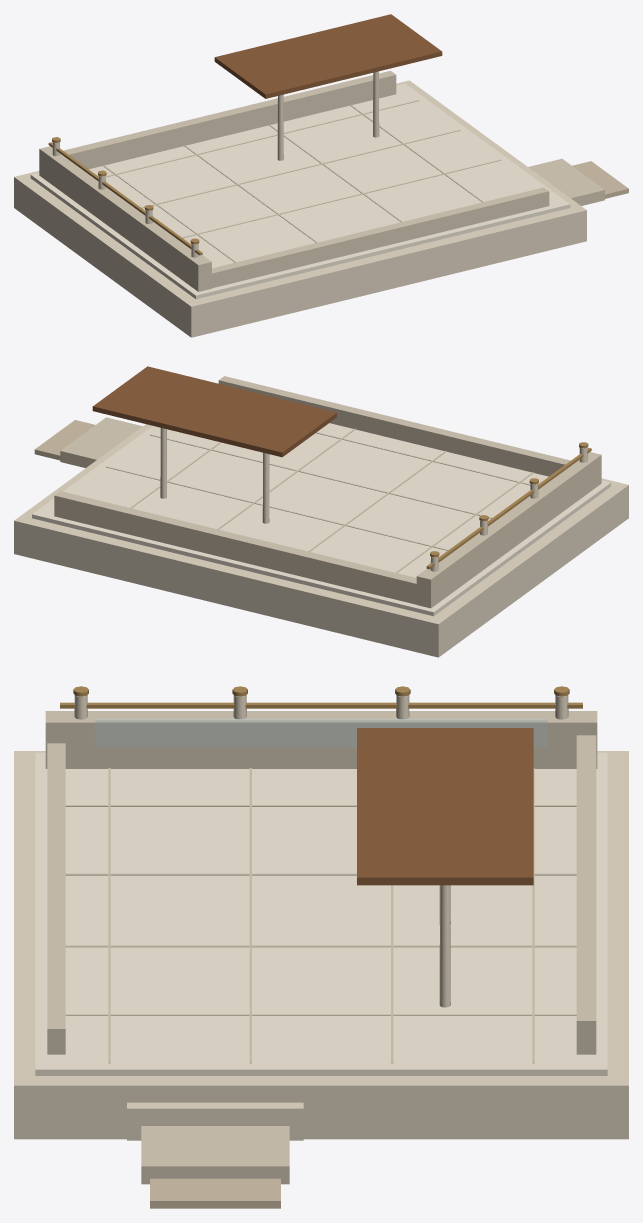
Rendered from belvedere.glb.
3 views of the same model, one above another, from view 1: azimuth 30°, elevation 25°; view 2: azimuth 150°, elevation 25°; view 3: azimuth 270°, elevation 25° (orthographic). The views are drawn at different scales.
Visible parts, largest first — view 1: BelvedereStructure; view 2: BelvedereStructure; view 3: BelvedereStructure.
Part boxes in pixels (x1,y1,x2,y2): BelvedereStructure: [14, 14, 628, 337]; BelvedereStructure: [14, 366, 628, 657]; BelvedereStructure: [14, 686, 628, 1208].
Bounding box in the file's own units: 13.5 × 3.49 × 8.7.
